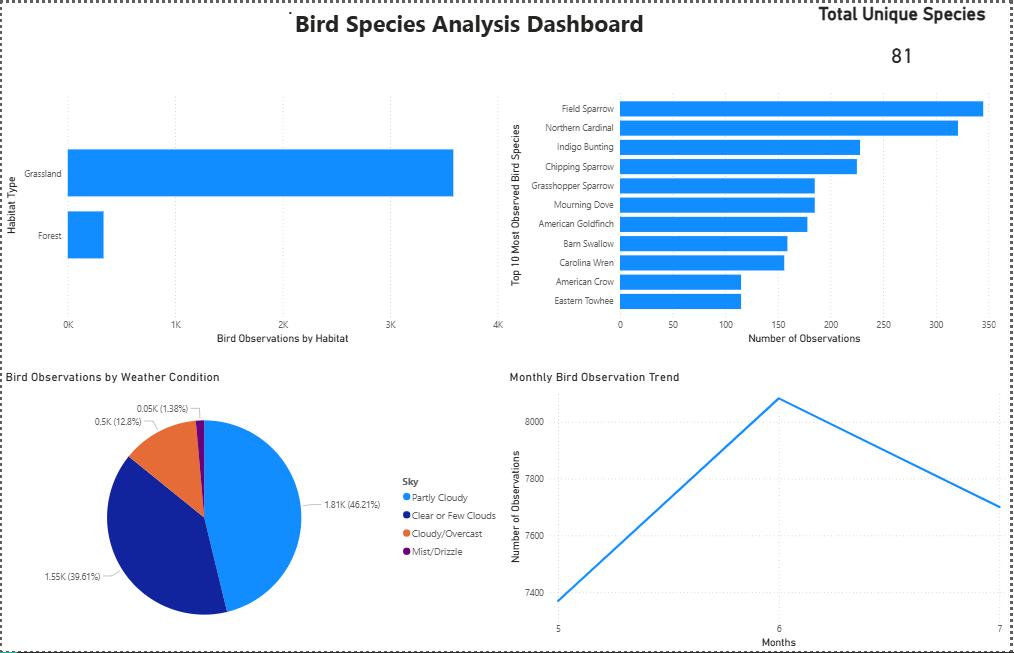

What the dashboard file says about the page in this screenshot:
{"tool":"powerbi","page":{"name":"Page 1","canvas":[1400,900],"ordinal":0},"visuals":[{"type":"clusteredBarChart","fields":{"Category":["bird_data.Location_Type"],"Y":["CountNonNull(bird_data.Location_Type)"]},"box":[0,112.5,700,365],"z":0},{"type":"clusteredBarChart","fields":{"Category":["bird_data.Common_Name"],"Y":["CountNonNull(bird_data.Common_Name)"]},"box":[700,113,684.8,365.2],"z":1000},{"type":"pieChart","title":"Bird Observations by Weather Condition","fields":{"Category":["bird_data.Sky"],"Y":["CountNonNull(bird_data.Sky)"]},"box":[0,507.5,700,392.5],"z":2000},{"type":"lineChart","title":"Monthly Bird Observation Trend","fields":{"Category":["bird_data.Month"],"Y":["Sum(bird_data.Month)"]},"box":[700,507.5,700,392.5],"z":3000},{"type":"textbox","box":[380,0,521.7,58.3],"z":3001},{"type":"card","title":"Total Unique Species","fields":{"Values":["Count(bird_data.Scientific_Name)"]},"box":[1100,0,300,113],"z":3002}]}

Visuals, with their boxes in screenshot pixels (x1, y1, x2, y2), scaled from the page's 1400x900 canvas onto the 1014x653 screenshot:
clusteredBarChart - bird_data.Location_Type x CountNonNull(bird_data.Location_Type): {"x1": 0, "y1": 82, "x2": 507, "y2": 346}
clusteredBarChart - bird_data.Common_Name x CountNonNull(bird_data.Common_Name): {"x1": 507, "y1": 82, "x2": 1003, "y2": 347}
"Bird Observations by Weather Condition" pieChart: {"x1": 0, "y1": 368, "x2": 507, "y2": 652}
"Monthly Bird Observation Trend" lineChart: {"x1": 507, "y1": 368, "x2": 1013, "y2": 652}
textbox: {"x1": 275, "y1": 0, "x2": 653, "y2": 42}
"Total Unique Species" card: {"x1": 797, "y1": 0, "x2": 1013, "y2": 82}
